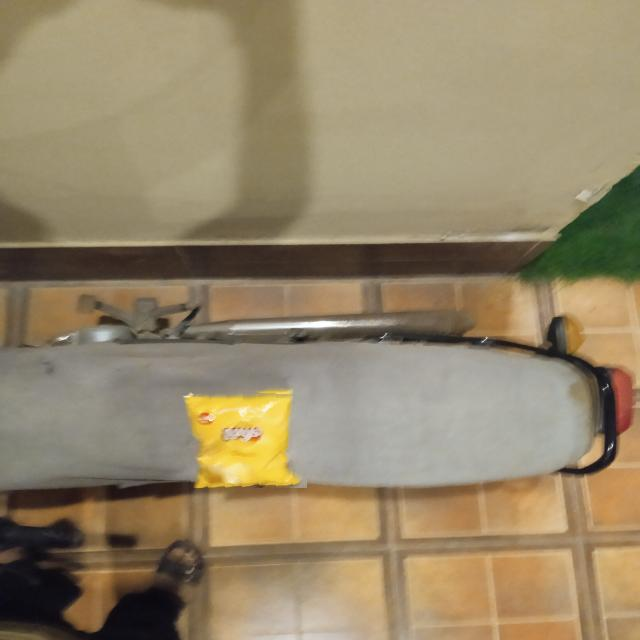Plastic: (183, 388, 308, 488)
